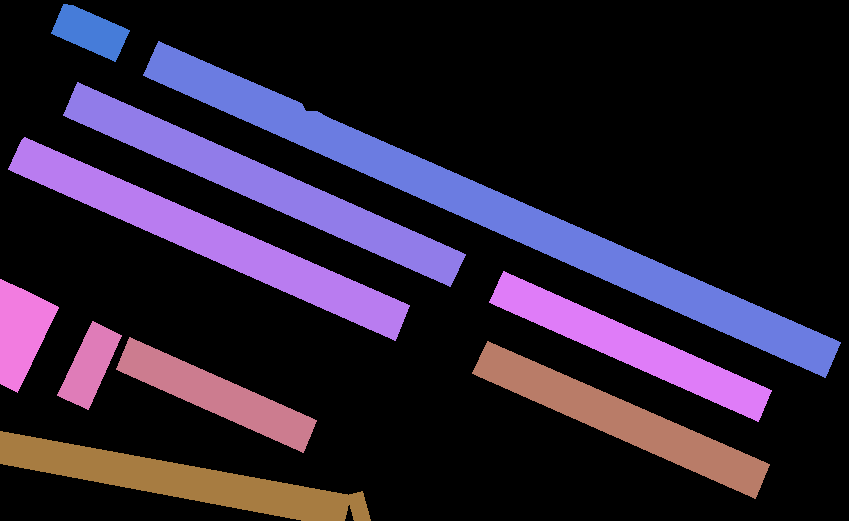parkingspot: (143, 41, 840, 377), (63, 82, 465, 286), (8, 137, 409, 340), (472, 341, 769, 498), (489, 271, 771, 421), (0, 431, 350, 521), (116, 337, 316, 452), (0, 291, 58, 392), (57, 321, 121, 409), (51, 4, 129, 61), (0, 279, 31, 359), (347, 491, 370, 521)
